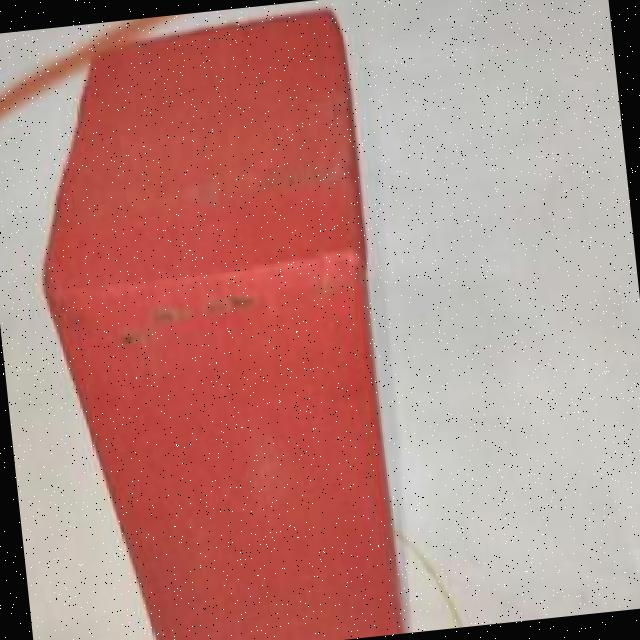redbox: (96, 14, 402, 640)
